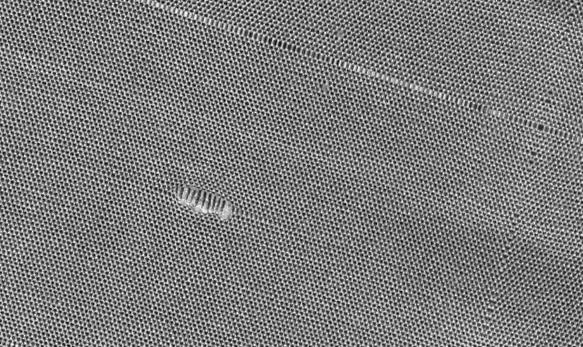slub: (172, 182, 237, 224)
